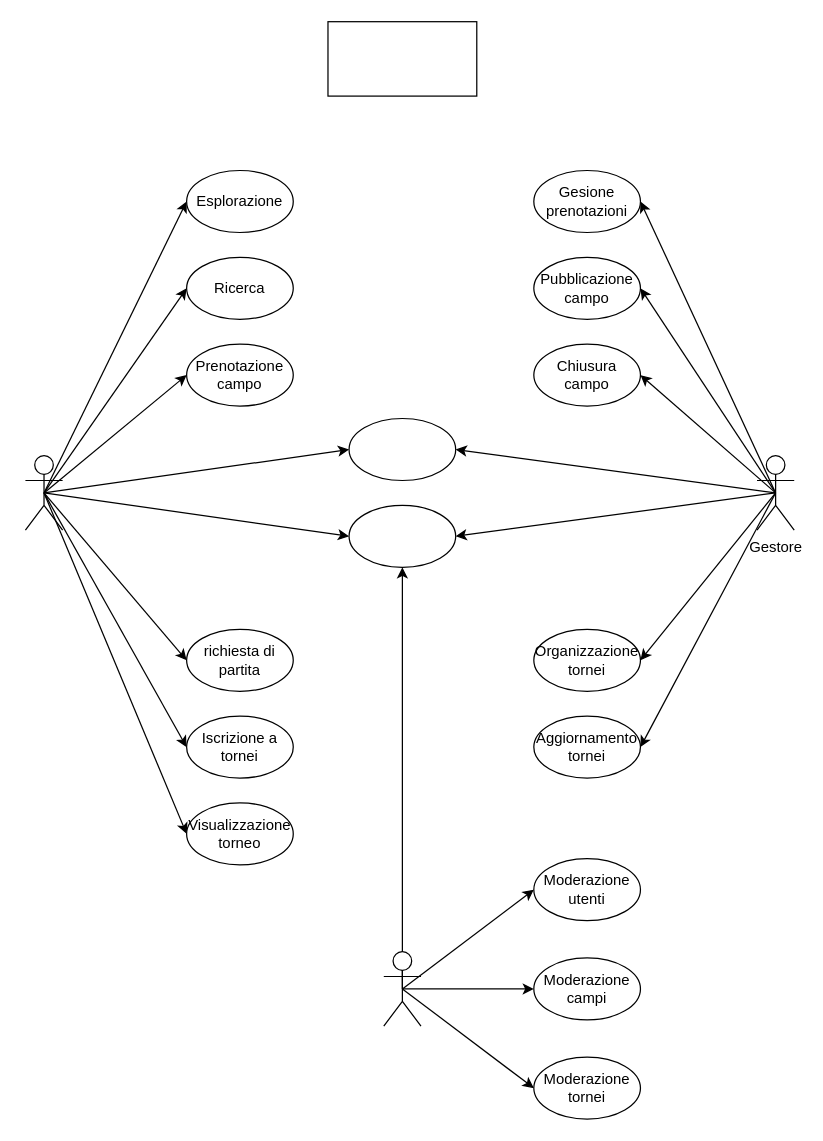
Some shapes in this 823 by 1141 pixel diagram are drawn without their labels. The box of each missing label's shape, as (x1, y1, x2, y2) in pixels:
Admin: (383, 950, 421, 1026)
Cliente: (24, 454, 63, 530)
DIAGRAMMA UML MIXED-ZONE: (327, 20, 477, 96)
Login: (348, 504, 456, 567)
Registrazione: (348, 417, 456, 480)
